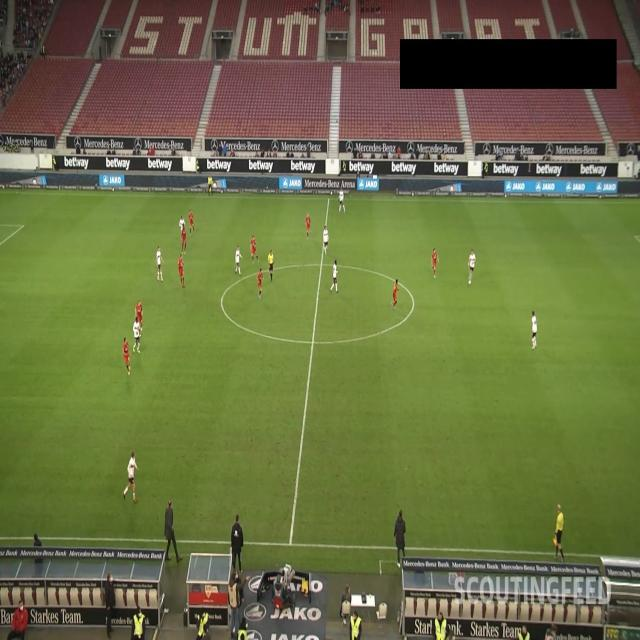ball: (468, 278, 472, 285)
